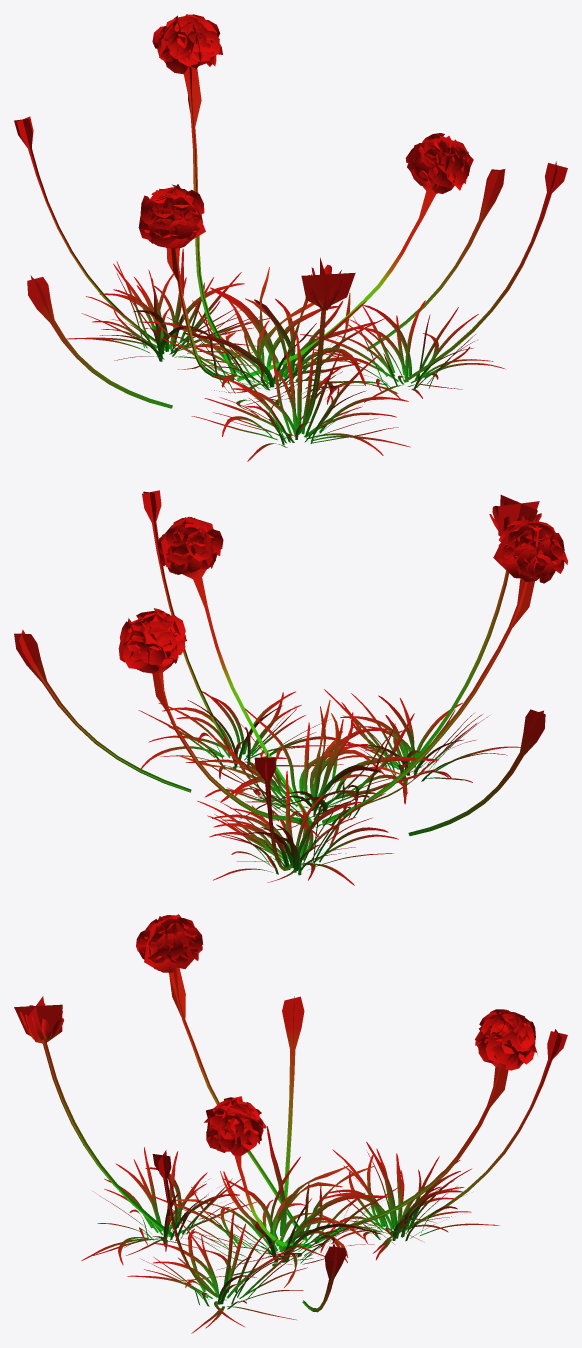
File: Var3_LOD0.fbx
3 views of the same model, one above another, from view 1: azimuth 30°, elevation 25°; view 2: azimuth 150°, elevation 25°; view 3: azimuth 270°, elevation 25° (orthographic). The views are drawn at different scales.
Visible parts, largest first — view 1: _wi0m_Var3_LOD0; view 2: _wi0m_Var3_LOD0; view 3: _wi0m_Var3_LOD0.
Boxes of the visible parts, <box> form: _wi0m_Var3_LOD0: <box>14,14,567,461</box>; _wi0m_Var3_LOD0: <box>14,490,567,885</box>; _wi0m_Var3_LOD0: <box>14,914,567,1333</box>.
Bounding box in the file's own units: 34.18 × 18.39 × 34.7.
